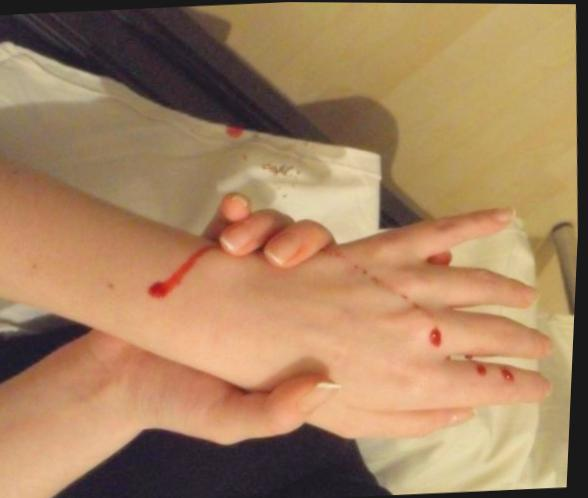Fire: (150, 246, 215, 300), (430, 251, 454, 264), (432, 328, 444, 346), (505, 367, 516, 381), (480, 363, 490, 375)
